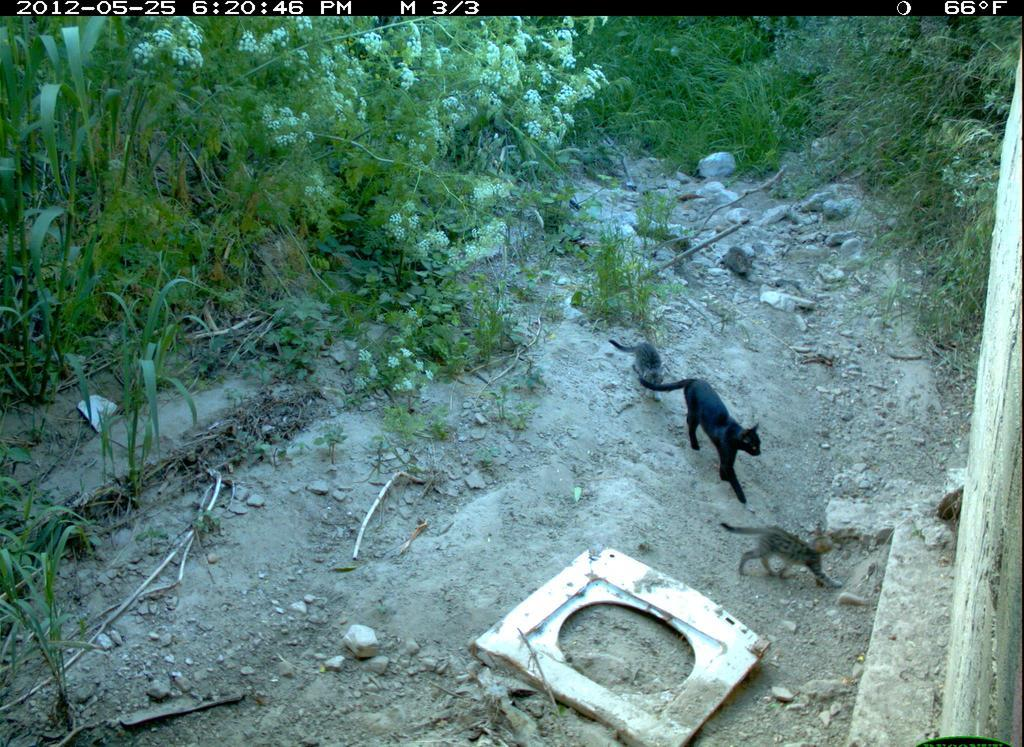cat: (641, 377, 769, 509), (717, 514, 867, 605), (597, 336, 679, 406)
